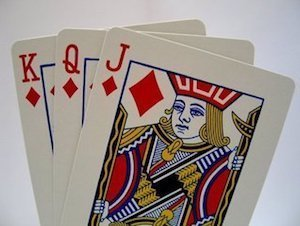JackOfDiamonds: (91, 23, 300, 225)
KingOfDiamonds: (7, 36, 65, 212)
QueenOfDiamonds: (54, 26, 102, 207)
